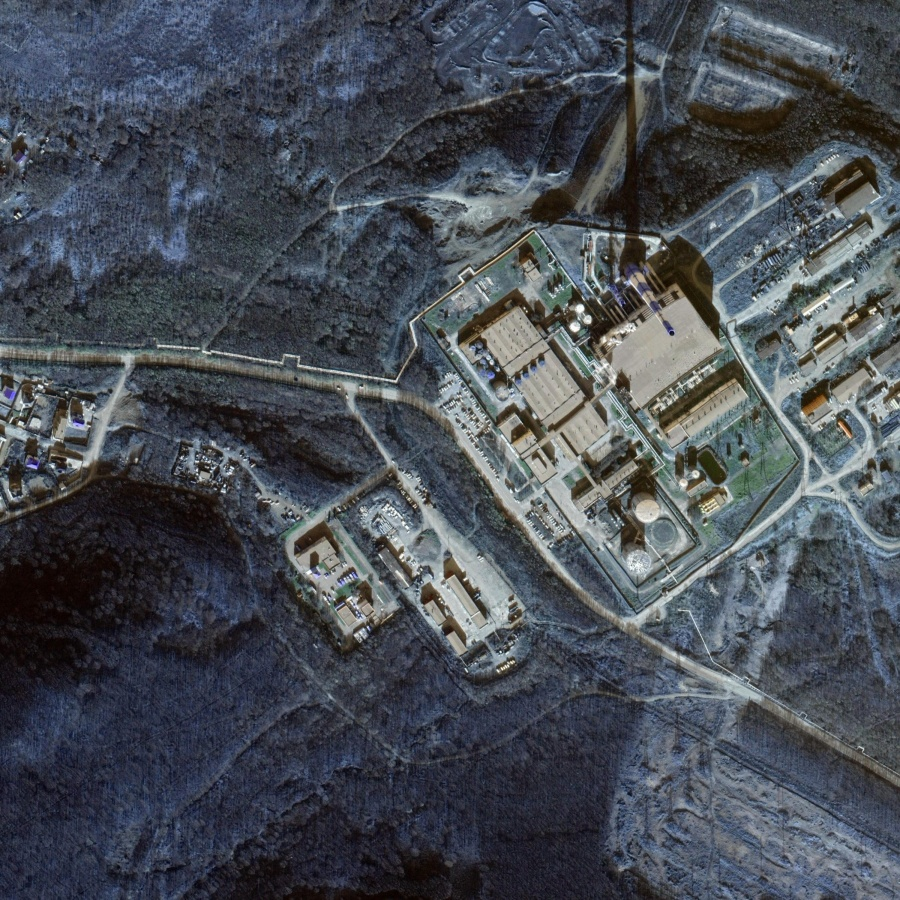PowerPlant: (456, 215, 771, 579)
